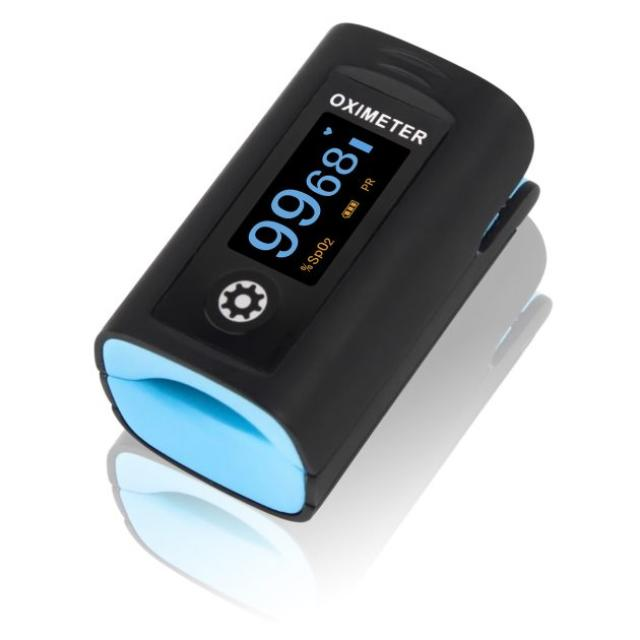oximeter: (67, 0, 535, 522)
